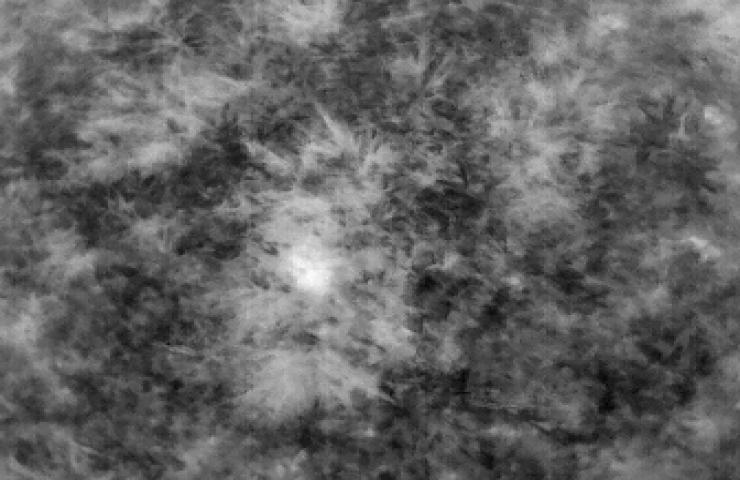landmines: (289, 258, 331, 293)
